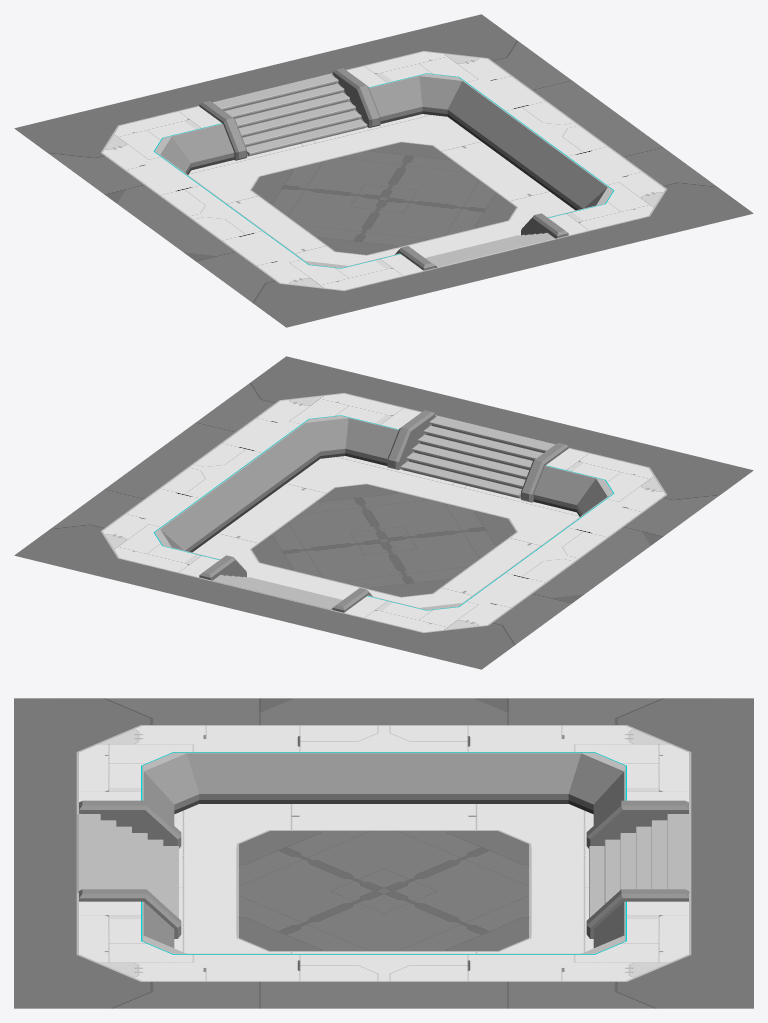
File: SM_Floor_Interior_24x24_Lower_2.fbx
The picture shows the model from 3 angles, top to bottom: view 1: azimuth 30°, elevation 25°; view 2: azimuth 150°, elevation 25°; view 3: azimuth 270°, elevation 25°; orthographic projection. The views are drawn at different scales.
Parts seen in each view (by area): view 1: SM_Floor_Interior_24x24_Lower_2; view 2: SM_Floor_Interior_24x24_Lower_2; view 3: SM_Floor_Interior_24x24_Lower_2.
Part boxes in pixels (x1,y1,x2,y2): SM_Floor_Interior_24x24_Lower_2: [14, 14, 753, 327]; SM_Floor_Interior_24x24_Lower_2: [14, 356, 753, 669]; SM_Floor_Interior_24x24_Lower_2: [14, 698, 753, 1008].
Bounding box in the file's own units: 2300 × 153 × 2320.
